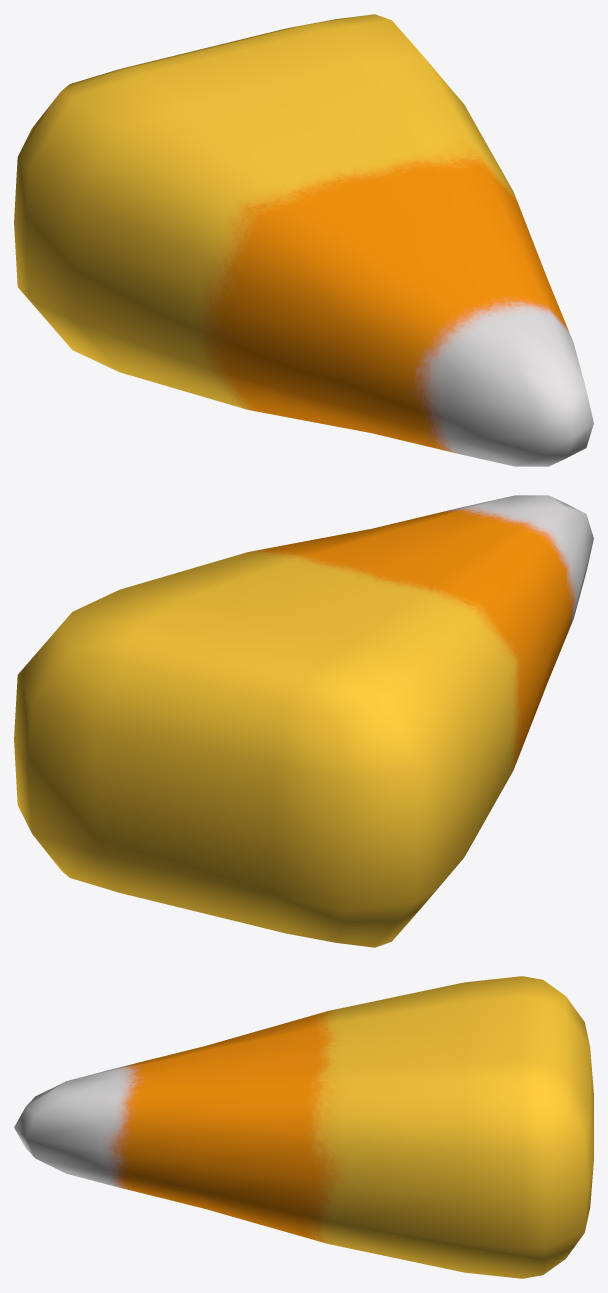
Rendered from candy corn.fbx.
The picture shows the model from 3 angles, top to bottom: view 1: azimuth 30°, elevation 25°; view 2: azimuth 150°, elevation 25°; view 3: azimuth 270°, elevation 25°; orthographic projection. The views are drawn at different scales.
Visible parts, largest first — view 1: candy corn; view 2: candy corn; view 3: candy corn.
Part boxes in pixels (x1=…): candy corn: x1=14, y1=14, x2=593, y2=466; candy corn: x1=14, y1=495, x2=593, y2=947; candy corn: x1=14, y1=976, x2=593, y2=1278.
Bounding box in the file's own units: 0.0131 × 0.00802 × 0.0214.
1 material, 1 textured.
